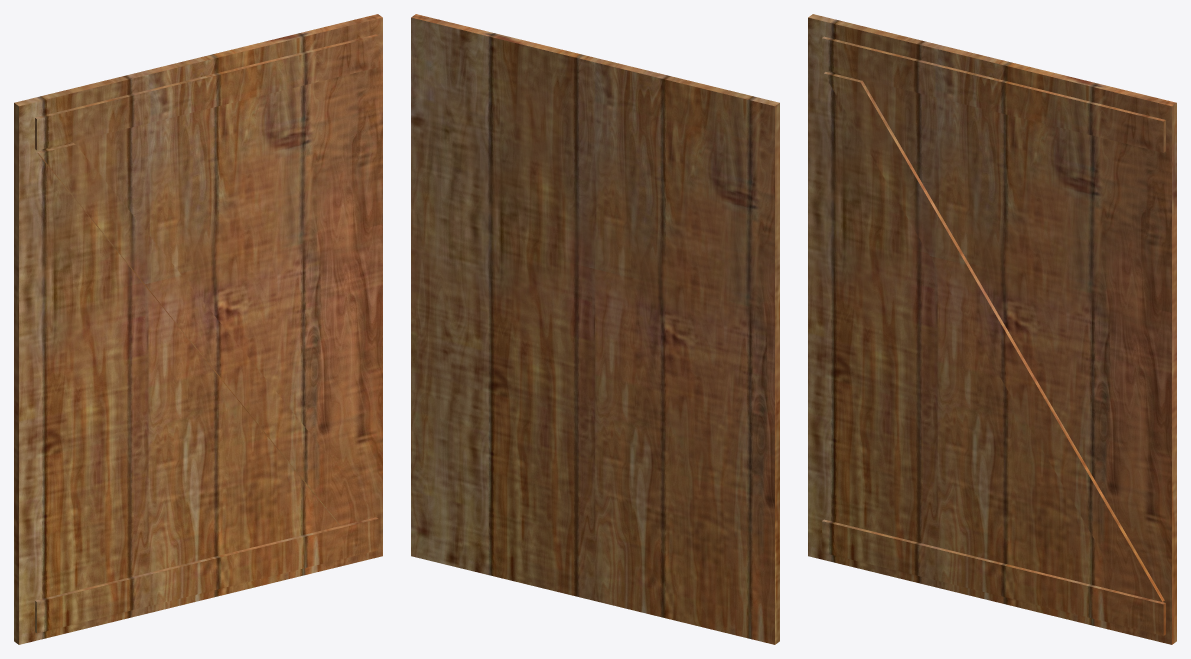
File: barndoorleft.FBX
3 views of the same model, side by side, from view 1: azimuth 30°, elevation 25°; view 2: azimuth 150°, elevation 25°; view 3: azimuth 330°, elevation 25° (orthographic).
Visible parts, largest first — view 1: Barn-Door-left; view 2: Barn-Door-left; view 3: Barn-Door-left.
Boxes of the visible parts, x1=… form: Barn-Door-left: x1=14, y1=14, x2=382, y2=644; Barn-Door-left: x1=411, y1=14, x2=779, y2=644; Barn-Door-left: x1=808, y1=14, x2=1176, y2=644.
Bounding box in the file's own units: 94.75 × 134 × 3.17.
